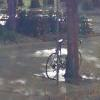Bicycle: (41, 33, 83, 85)
